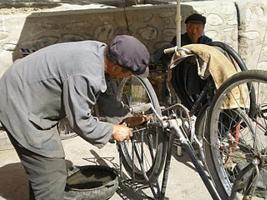person: (1, 35, 153, 200)
